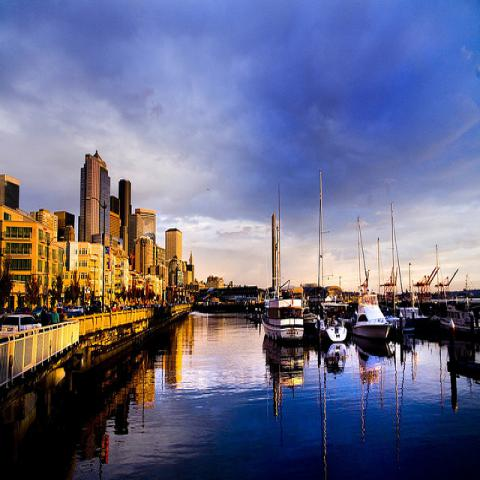car: (1, 314, 42, 332), (68, 305, 84, 315), (32, 306, 42, 317)
